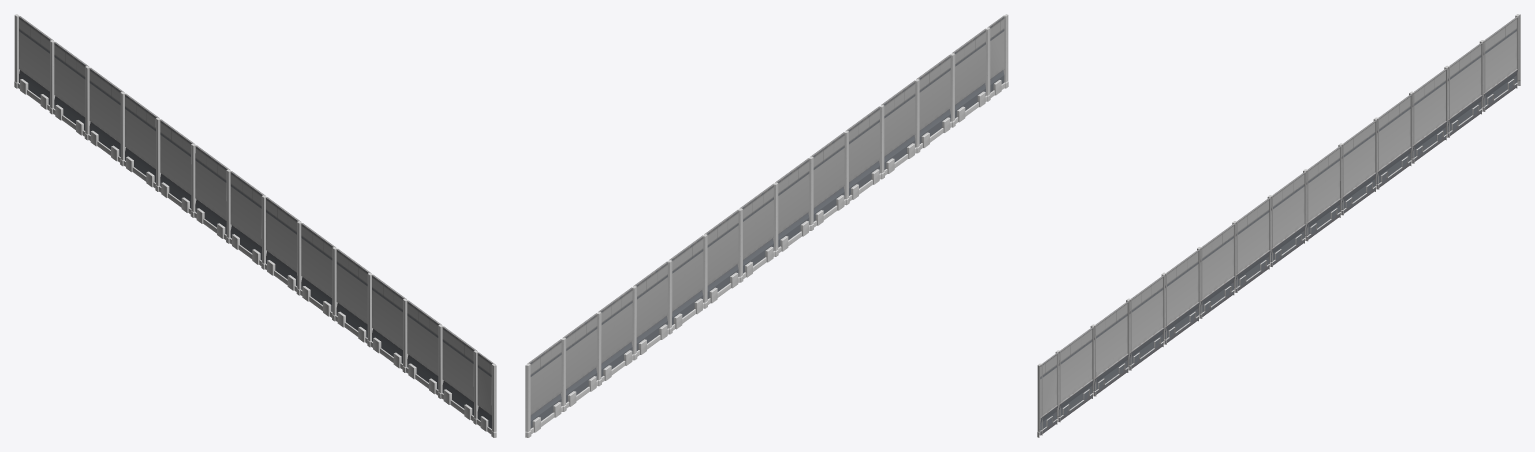
Rendered from Pfb_JALB_WallPart2_Line__13.fbx.
3 views of the same model, side by side, from view 1: azimuth 30°, elevation 25°; view 2: azimuth 150°, elevation 25°; view 3: azimuth 330°, elevation 25° (orthographic).
Visible parts, largest first — view 1: MAT_JLABWall; view 2: MAT_JLABWall; view 3: MAT_JLABWall.
Part boxes in pixels (x1,y1,x2,y2): MAT_JLABWall: [14, 14, 496, 437]; MAT_JLABWall: [525, 14, 1008, 437]; MAT_JLABWall: [1037, 14, 1520, 437].
Bounding box in the file's own units: 0.2677 × 4.04 × 48.97.
Materials: 1 (1 with a texture image).
